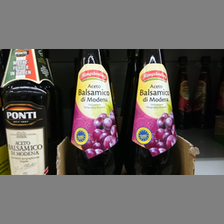vinegar: (125, 50, 184, 174), (65, 49, 122, 173), (1, 48, 56, 174)
